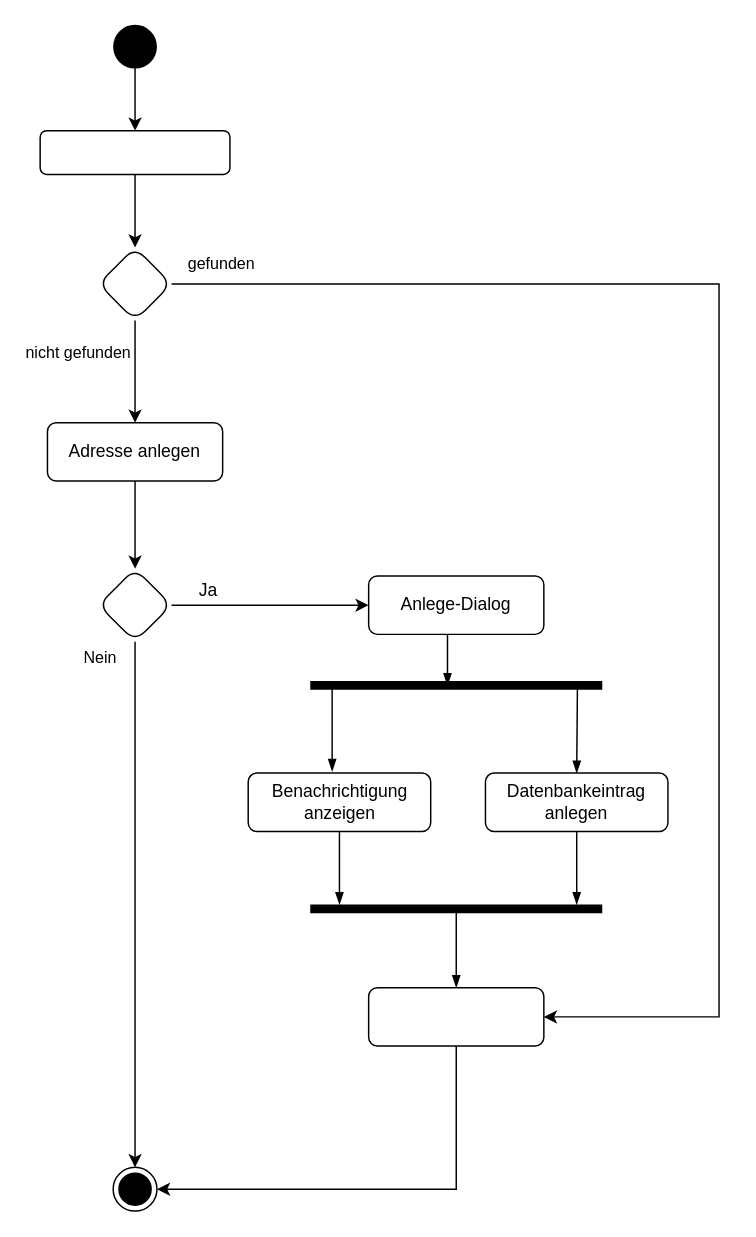
This 756x1237 diagram has some shape labels left out. The shapes that lost their labels are listed below. From the top down, each one's box as (x1, y1, x2, y2) in pixels, then its label:
(39, 129, 230, 174): Adresse suchen
(367, 986, 544, 1046): Adresse anzeigen
